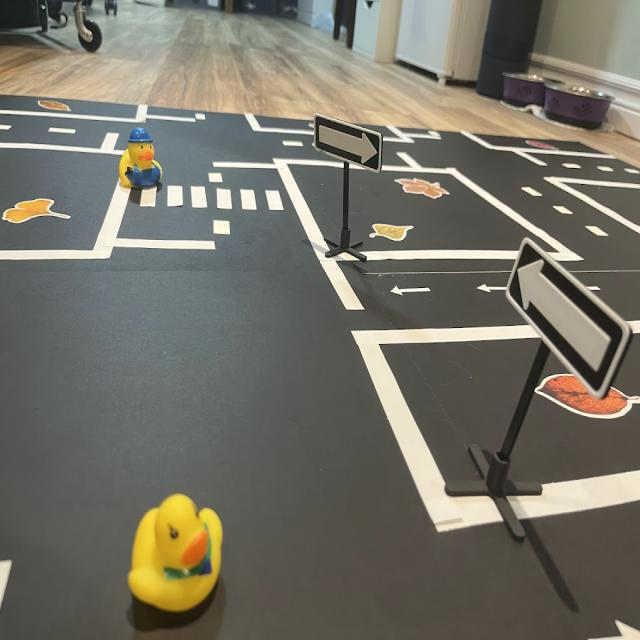duck_regular: (125, 489, 227, 616)
duck_specialty: (118, 124, 166, 194)
road_crosswalk: (136, 180, 287, 217)
road_oneway: (576, 608, 640, 640), (391, 278, 433, 301), (472, 277, 512, 299)
sign_oneway_left: (507, 244, 634, 396)
sign_oneway_right: (314, 119, 385, 173)
